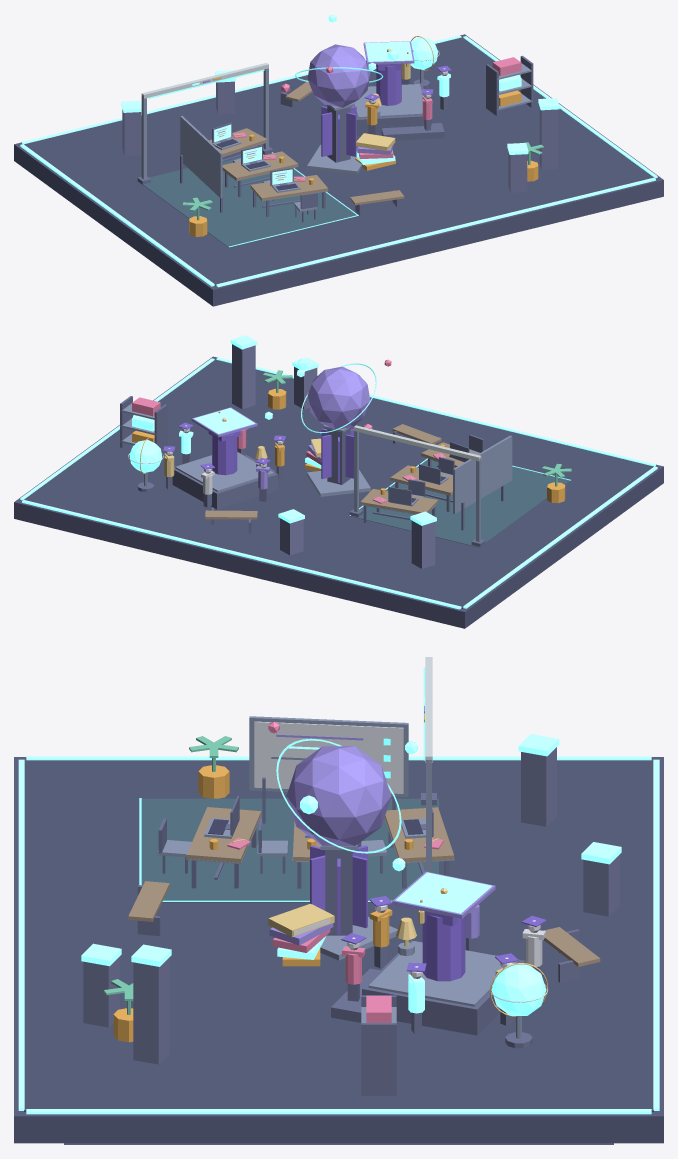
The model's file is campus.glb.
The picture shows the model from 3 angles, top to bottom: view 1: azimuth 30°, elevation 25°; view 2: azimuth 150°, elevation 25°; view 3: azimuth 270°, elevation 25°; orthographic projection. The views are drawn at different scales.
Visible parts, largest first — view 1: Deck_Top, Deck_Slab, Desk0_CampusFloor, Hub_Core_Shell, Board_Frame, Deck_RimZ_1, Comm_PlinthTop, Pillar1, Deck_Rim_-1, Comm_Pedestal, Deck_RimZ_-1, Desk0_Top (+20 smaller); view 2: Deck_Top, Deck_Slab, Desk0_CampusFloor, Hub_Core_Shell, Board_Frame, Deck_RimZ_-1, Comm_Plinth, Pillar1, Comm_PlinthTop, Deck_RimZ_1, Pillar0, Deck_Rim_-1 (+15 smaller); view 3: Deck_Top, Deck_Slab, Desk0_CampusFloor, Hub_Core_Shell, Board_Surface, Deck_Rim_1, Comm_PlinthTop, Pillar1, Comm_Plinth, Shelf_Side_R, Comm_Pedestal, Pillar0 (+24 smaller).
Boxes of the visible parts, box(x1,y1,x2,y2) form: Deck_Top: box(24, 37, 655, 286); Deck_Slab: box(14, 34, 663, 306); Desk0_CampusFloor: box(137, 153, 358, 247); Hub_Core_Shell: box(307, 44, 370, 107); Board_Frame: box(180, 115, 222, 198); Deck_RimZ_1: box(216, 177, 655, 287); Comm_PlinthTop: box(354, 84, 422, 118); Pillar1: box(539, 107, 558, 170); Deck_Rim_-1: box(20, 144, 214, 286); Comm_Pedestal: box(376, 64, 401, 105); Deck_RimZ_-1: box(22, 35, 461, 144); Desk0_Top: box(250, 175, 328, 200); Deck_Top: box(22, 359, 653, 608); Deck_Slab: box(14, 356, 663, 628); Desk0_CampusFloor: box(349, 459, 570, 547); Hub_Core_Shell: box(307, 366, 370, 429); Board_Frame: box(453, 435, 512, 513); Deck_RimZ_-1: box(22, 500, 461, 609); Comm_Plinth: box(172, 451, 278, 509); Pillar1: box(232, 344, 255, 409); Comm_PlinthTop: box(175, 452, 273, 491); Deck_RimZ_1: box(216, 357, 655, 466); Pillar0: box(411, 520, 435, 568); Deck_Rim_-1: box(463, 466, 657, 608); Deck_Top: box(24, 760, 653, 1111); Deck_Slab: box(14, 757, 663, 1143); Desk0_CampusFloor: box(139, 798, 438, 902); Hub_Core_Shell: box(286, 746, 391, 845); Board_Surface: box(254, 721, 403, 793); Deck_Rim_1: box(26, 1109, 651, 1114); Comm_PlinthTop: box(368, 941, 519, 1006); Pillar1: box(133, 957, 169, 1064); Comm_Plinth: box(362, 940, 525, 1035); Shelf_Side_R: box(361, 1023, 396, 1095); Comm_Pedestal: box(422, 914, 465, 981); Pillar0: box(521, 747, 556, 826).
Bounding box in the file's own units: 34 × 12.25 × 26.
